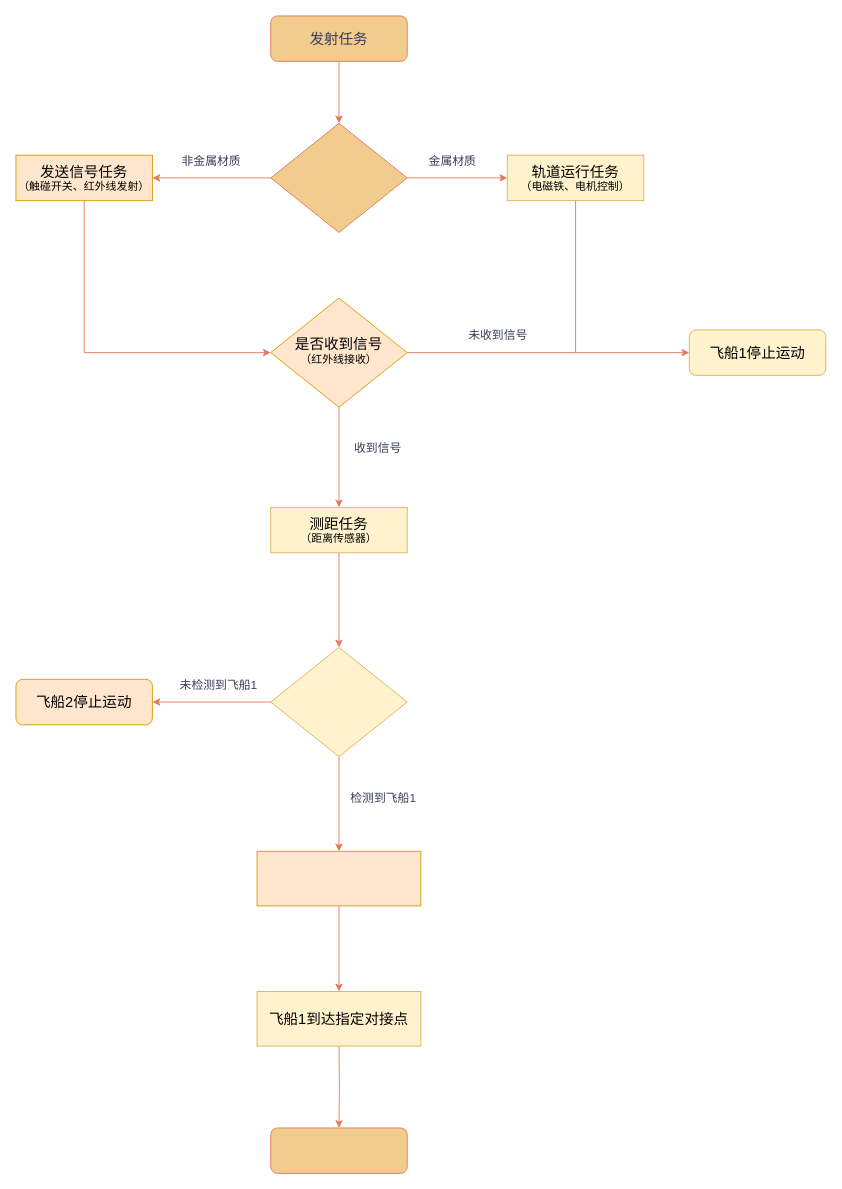
Some shapes in this 842 by 1189 pixel diagram are drawn without their labels. The shapes that lost their labels are listed below. From the top down, each one's box as (x1, y1, x2, y2) in pixels, then its label:
(270, 122, 407, 233): 分拣任务 （舵机控制）
(270, 647, 407, 757): 是否检测 到飞船1
(256, 850, 421, 906): 飞船2到达指定对接点 （机械结构件）
(270, 1127, 407, 1173): 对接成功 （亮灯）
